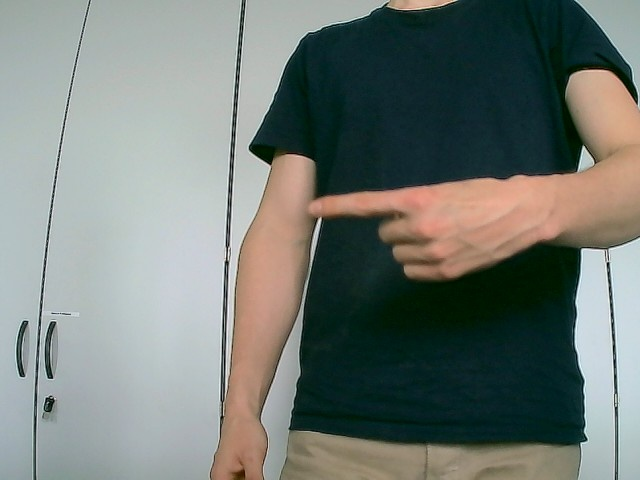right: (306, 172, 562, 283)
